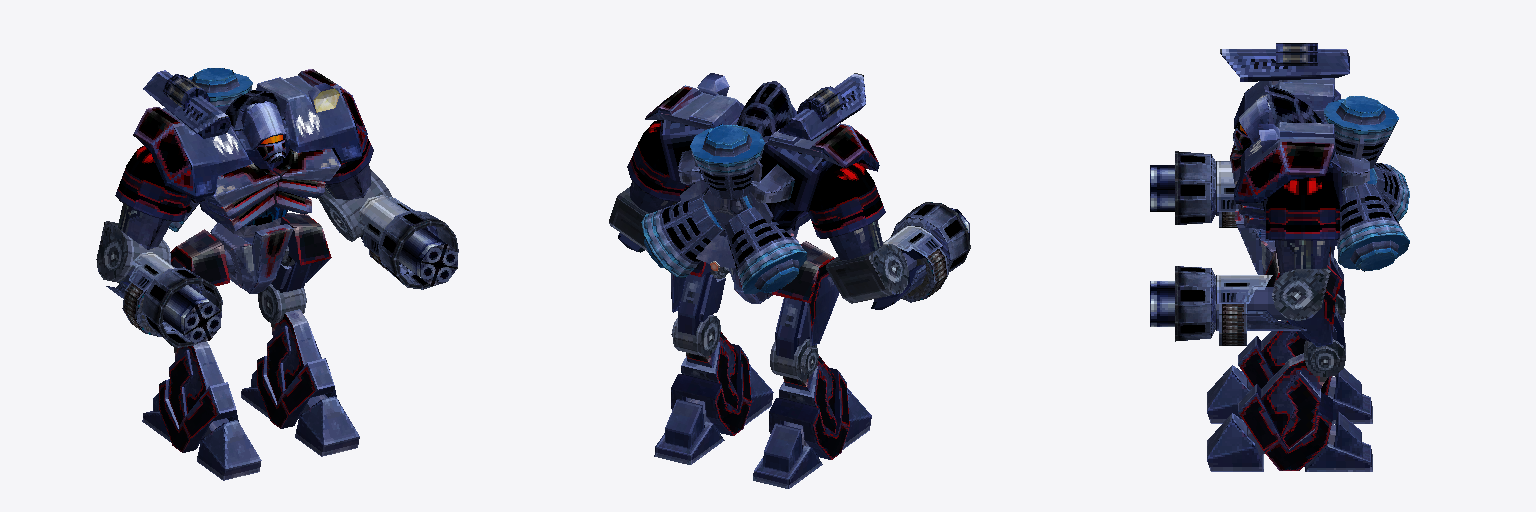
The picture shows the model from 3 angles: view 1: azimuth 30°, elevation 25°; view 2: azimuth 150°, elevation 25°; view 3: azimuth 270°, elevation 25°; orthographic projection.
Parts seen in each view (by area): view 1: titan_Mesh_0088; view 2: titan_Mesh_0088; view 3: titan_Mesh_0088.
Boxes of the visible parts, <box> form: titan_Mesh_0088: <box>96,68,458,480</box>; titan_Mesh_0088: <box>609,73,970,488</box>; titan_Mesh_0088: <box>1150,43,1409,471</box>.
Size of the model in its own units: 9.52 by 11.07 by 7.14.
Materials: 5 (5 with a texture image).